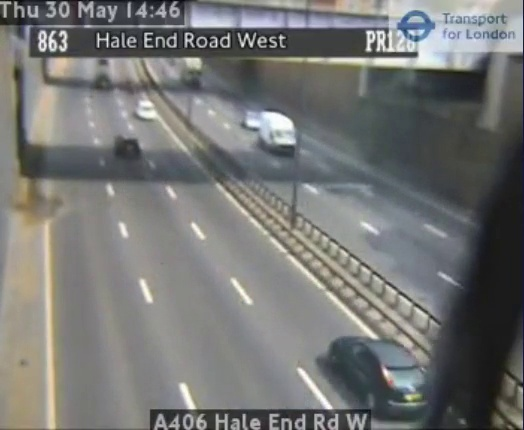car: (331, 337, 427, 414)
